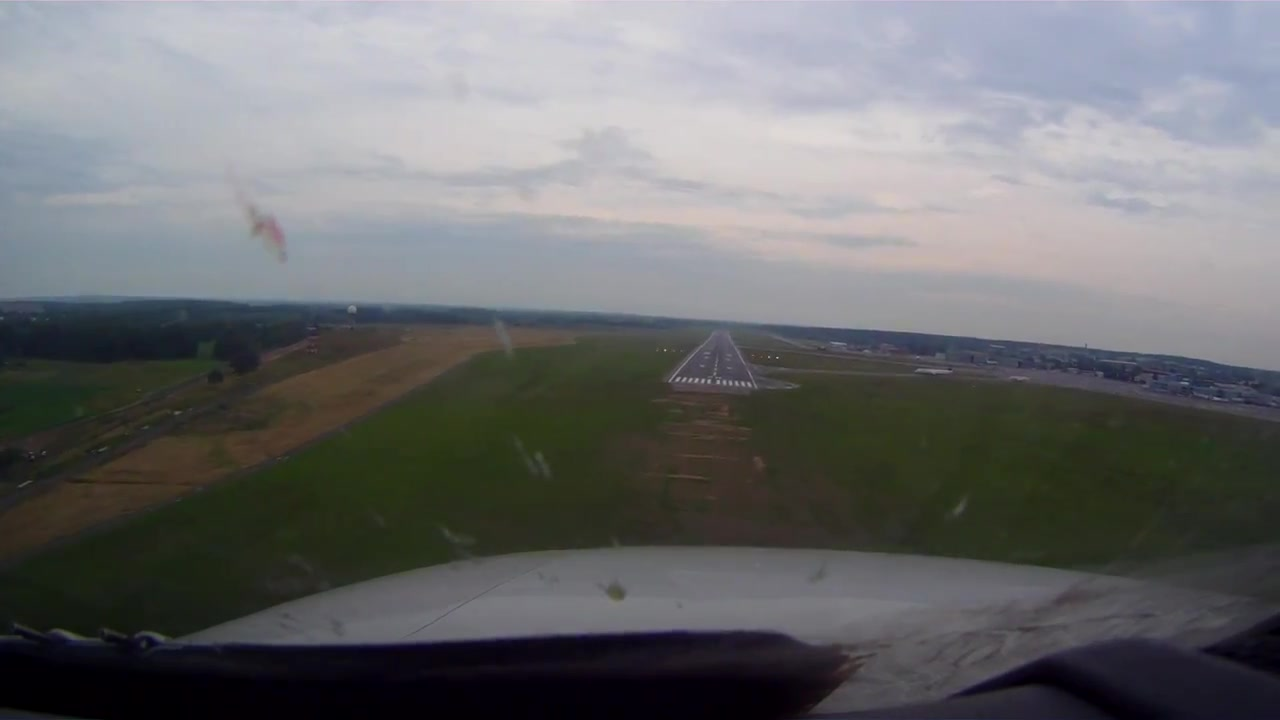entrance: (673, 374, 754, 389)
runway: (666, 331, 759, 391)
